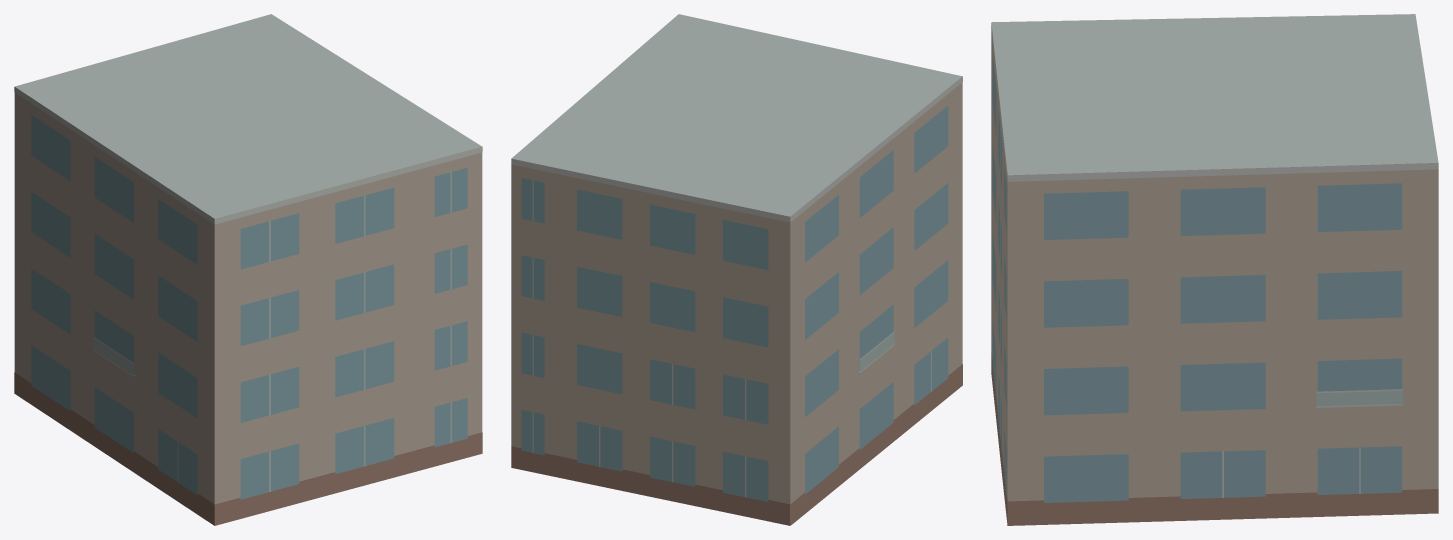
Rendered from survey-upis-32908470.glb.
3 renders of one model, left to right at view 1: azimuth 30°, elevation 25°; view 2: azimuth 150°, elevation 25°; view 3: azimuth 270°, elevation 25°, orthographic. The views are drawn at different scales.
Parts seen in each view (by area): view 1: survey-upis-32908470.tmp; view 2: survey-upis-32908470.tmp; view 3: survey-upis-32908470.tmp.
Part boxes in pixels (<box>): survey-upis-32908470.tmp: <box>14,14,482,525</box>; survey-upis-32908470.tmp: <box>511,14,962,525</box>; survey-upis-32908470.tmp: <box>991,14,1438,525</box>.
Bounding box in the file's own units: 12.94 × 13.1 × 15.16.
